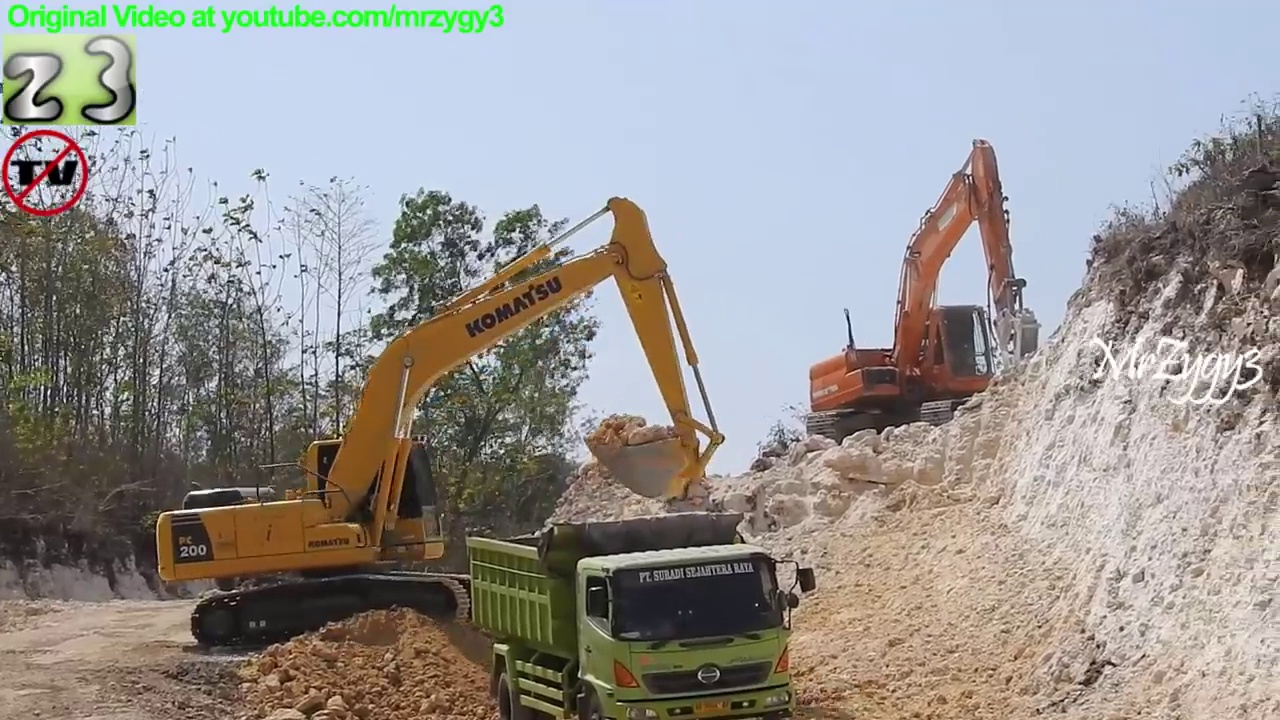excavator: (150, 195, 734, 658), (805, 133, 1050, 450)
truck: (462, 509, 823, 720)
